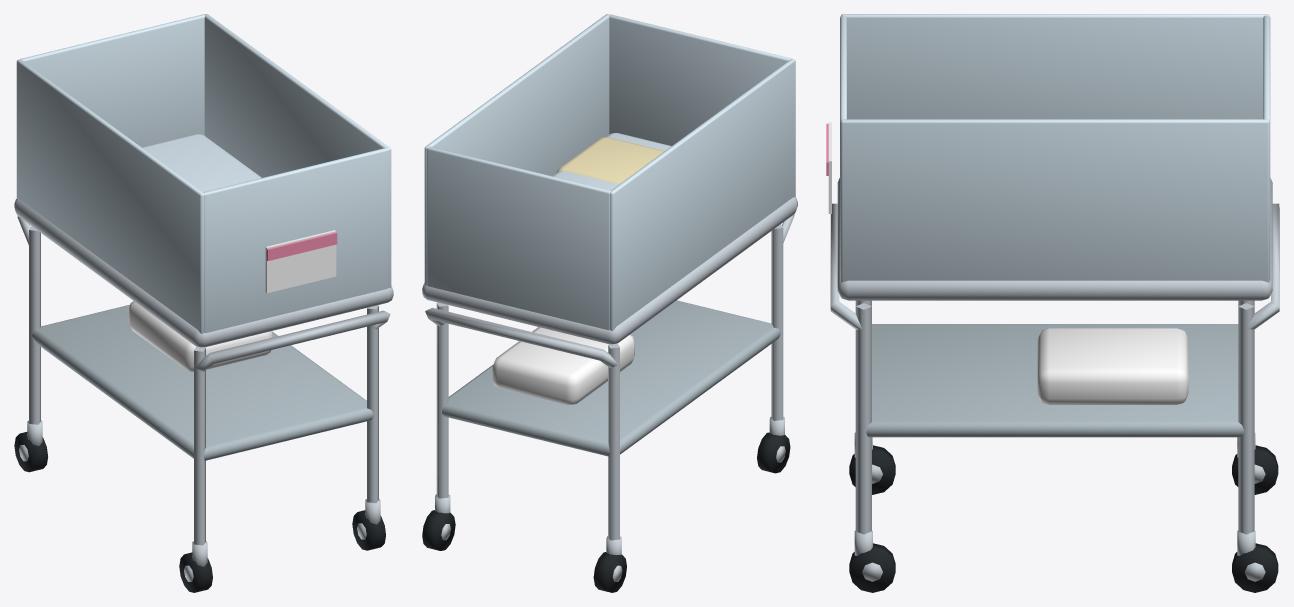
File: cot.glb
The picture shows the model from 3 angles, left to right: view 1: azimuth 30°, elevation 25°; view 2: azimuth 150°, elevation 25°; view 3: azimuth 270°, elevation 25°; orthographic projection. The views are drawn at different scales.
Visible parts, largest first — view 1: Glass, Main; view 2: Glass, Main; view 3: Glass, Main.
Part boxes in pixels (left/top/right/bottom): Glass: left=16, top=14, right=391, bottom=333; Main: left=14, top=134, right=393, bottom=592; Glass: left=424, top=14, right=795, bottom=330; Main: left=422, top=133, right=797, bottom=592; Glass: left=840, top=14, right=1270, bottom=282; Main: left=826, top=122, right=1279, bottom=592.
Bounding box in the file's own units: 0.46 × 0.9 × 0.7825.
